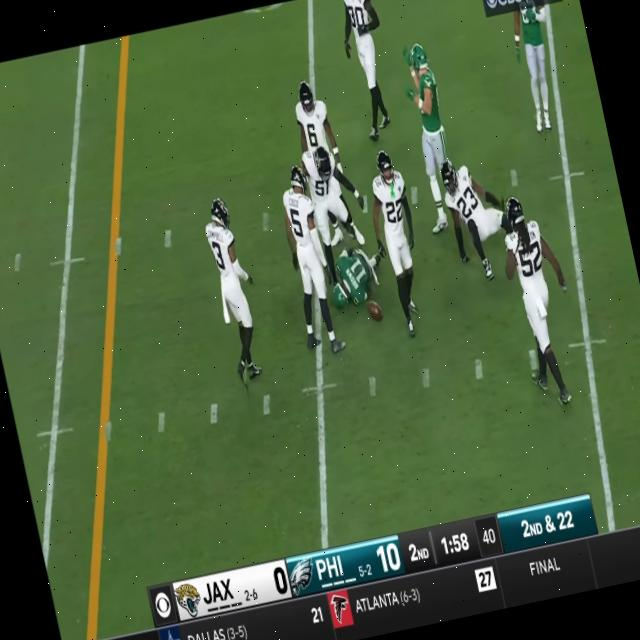Player: (493, 188, 578, 406), (197, 192, 271, 394), (364, 150, 438, 342), (276, 167, 344, 360), (336, 0, 400, 141), (436, 152, 506, 278), (503, 0, 567, 133), (401, 43, 452, 169), (303, 145, 358, 252), (323, 248, 386, 314), (286, 78, 341, 152)
